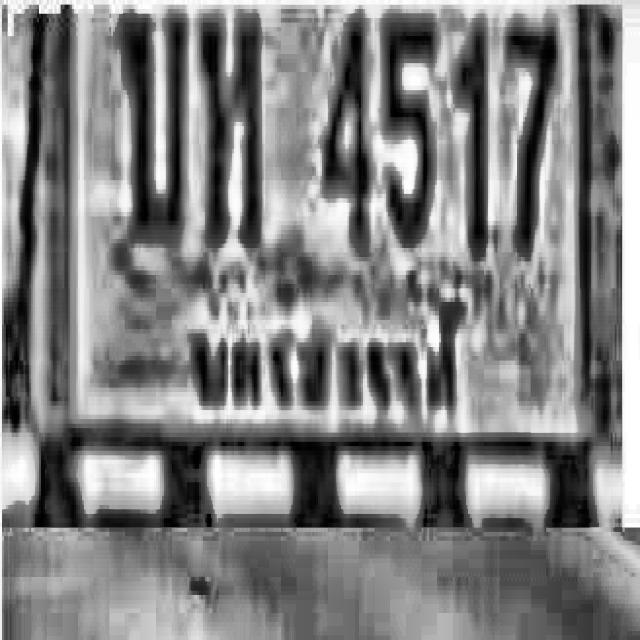license-plate: (25, 0, 626, 527)
